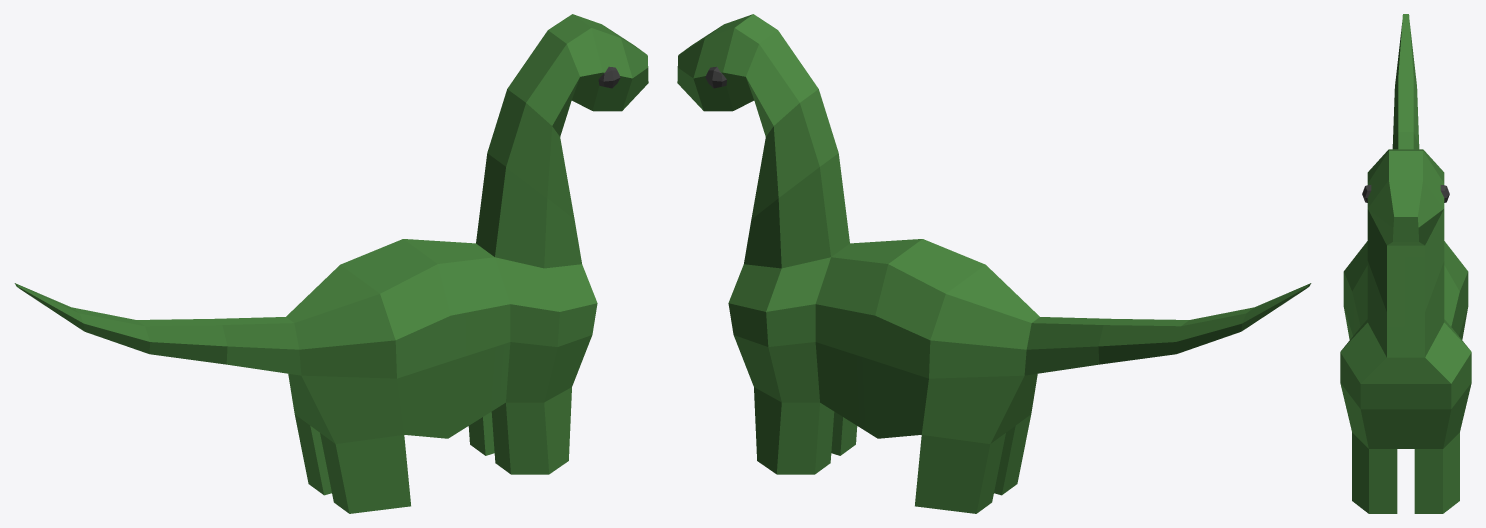
Rendered from Dinosaur.glb.
3 renders of one model, left to right at view 1: azimuth 30°, elevation 25°; view 2: azimuth 150°, elevation 25°; view 3: azimuth 270°, elevation 25°, orthographic. The views are drawn at different scales.
Visible parts, largest first — view 1: Dinosaur; view 2: Dinosaur; view 3: Dinosaur.
Boxes of the visible parts, x1,y1,x2,y2 form: Dinosaur: (14,14,648,513); Dinosaur: (677,14,1311,513); Dinosaur: (1340,14,1471,513).
Bounding box in the file's own units: 0.9795 × 0.6242 × 0.197.
Materials: 1 (1 with a texture image).
